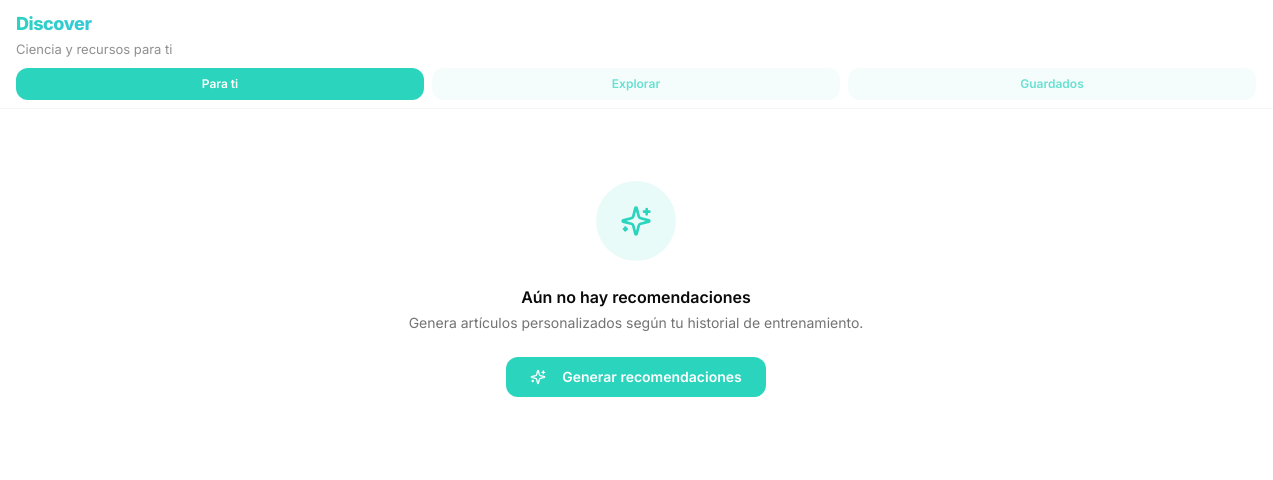
Scenario: Feature: Article Discovery System › Scenario: Generating articles with insufficient history › Given a user with no entries, When they tap generate, Then they are warned about insufficient data
Click the button "Generar recomendaciones": point(636, 376) [506,356,766,396]
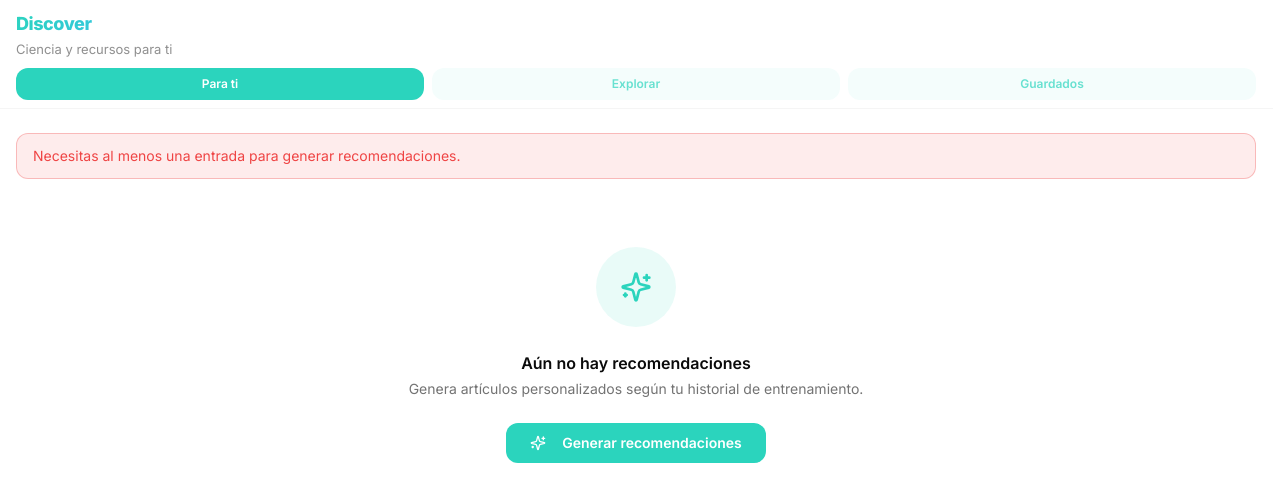
Expected: the text "Necesitas al menos una entrada para generar recomendaciones." is shown, [33,146,460,164]
